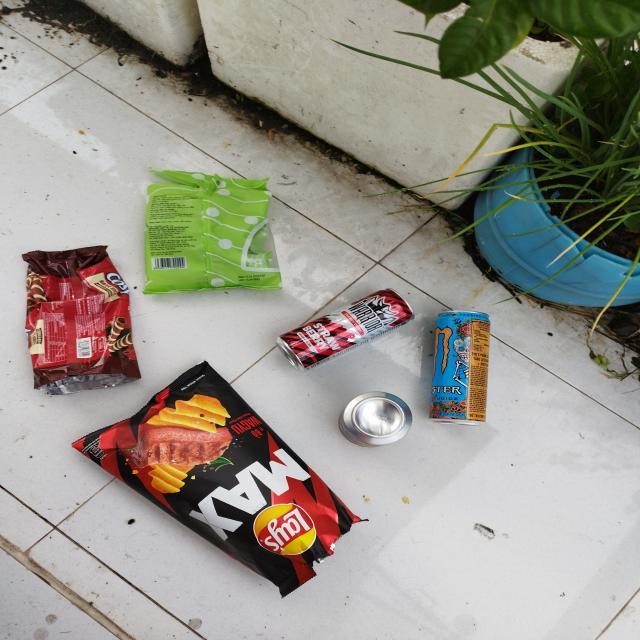can: (276, 288, 416, 372), (429, 310, 491, 426), (338, 391, 413, 448)
snack package: (72, 359, 370, 599), (142, 167, 283, 295), (22, 245, 142, 395)
